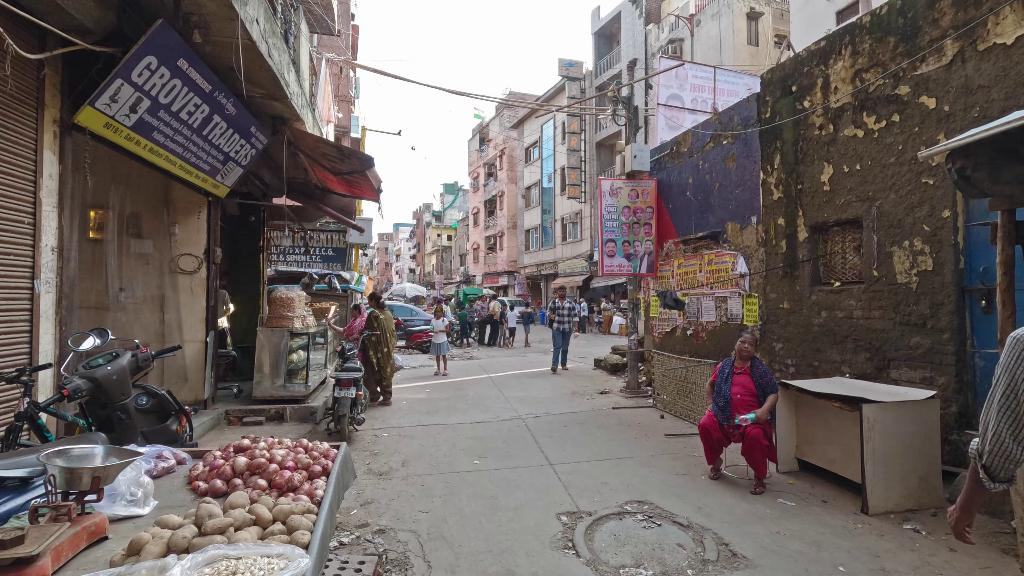garbage: (95, 447, 163, 517)
